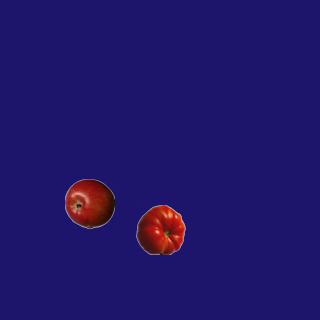Apple Braeburn: (64, 178, 114, 228)
Tomato 3: (135, 204, 185, 254)
